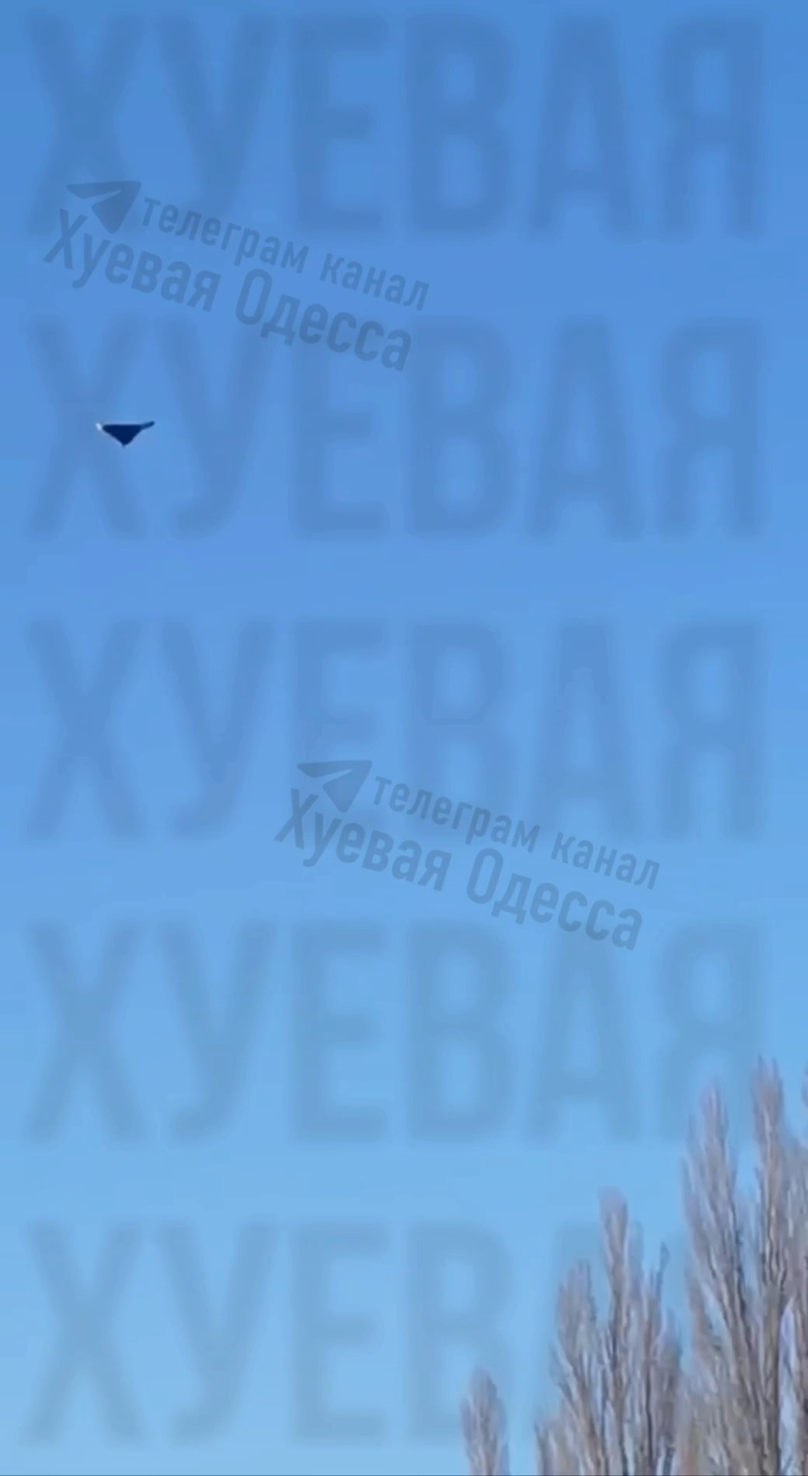shahed: (92, 408, 159, 452)
